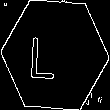L_N: (40, 29, 70, 81)
